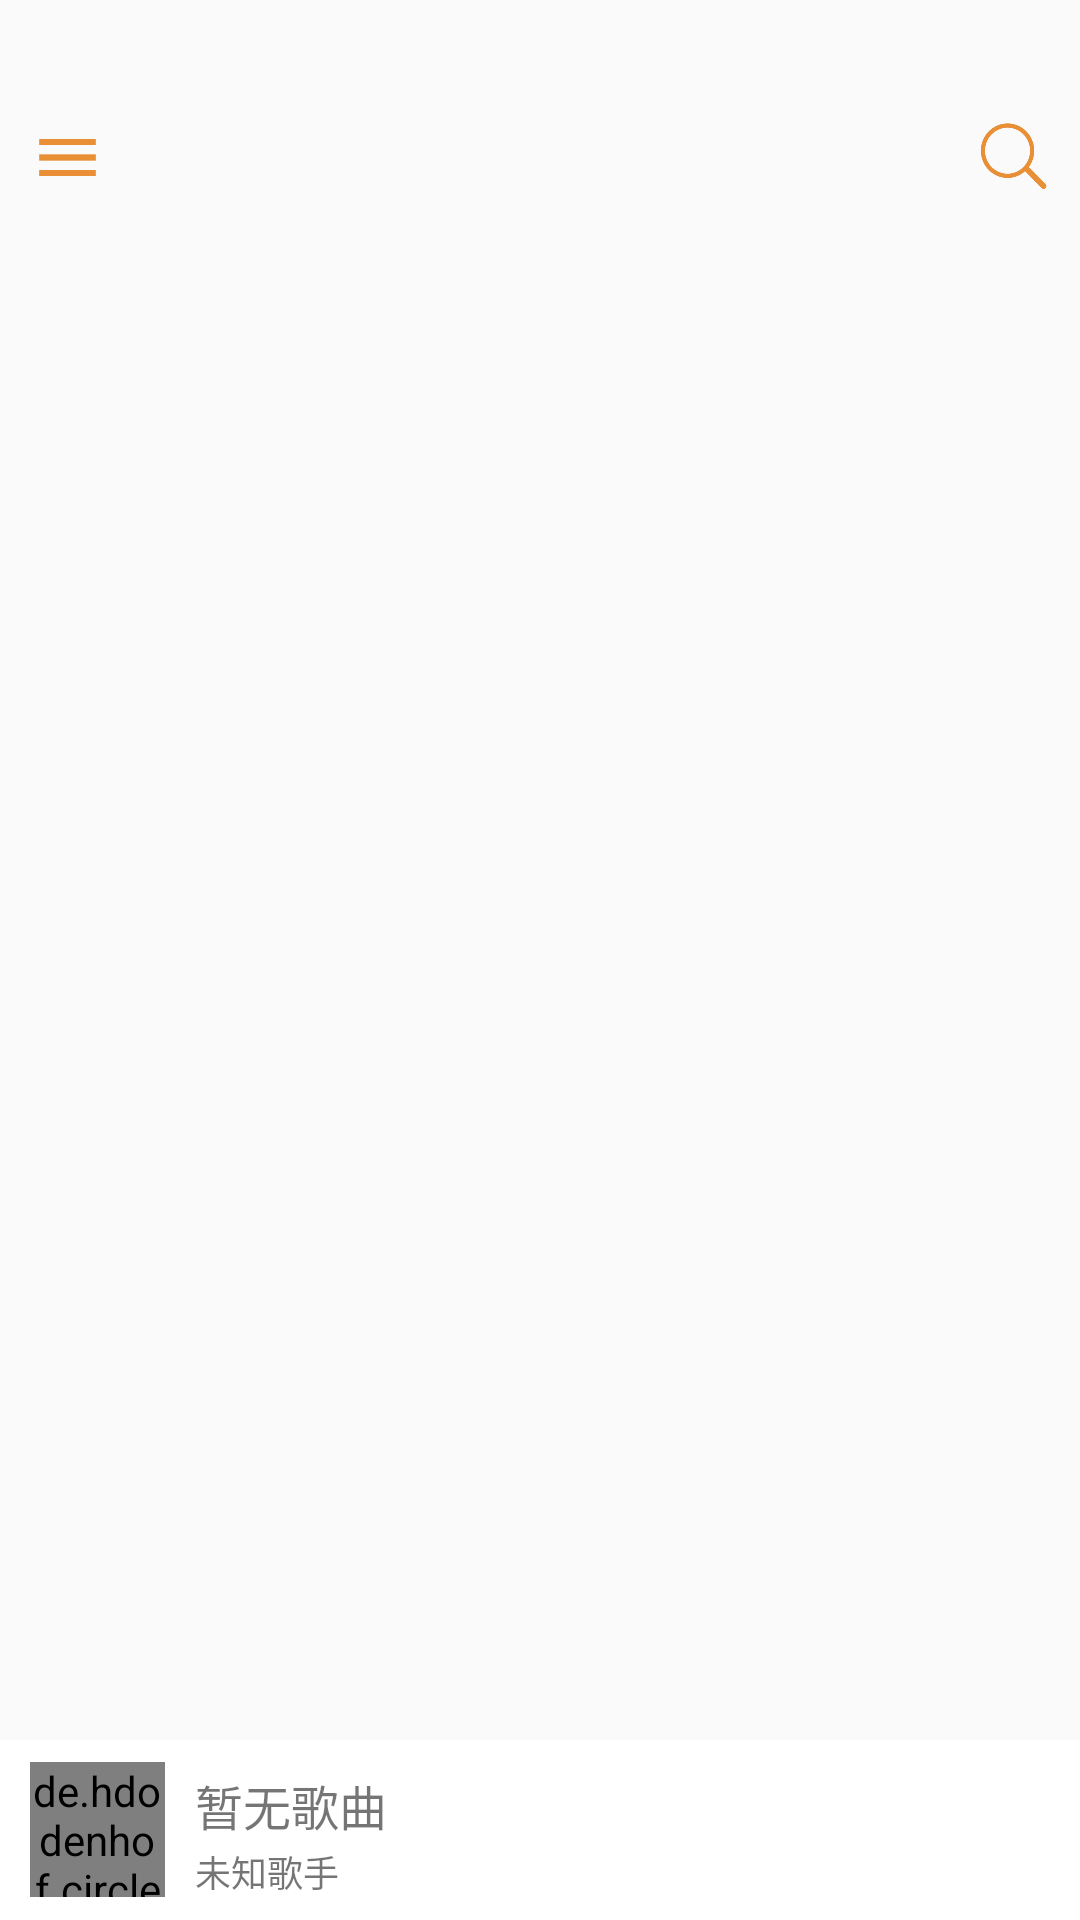

Icons on this 1080×1920 Android screen, each with the point to tap as point (x, y):
search: point (1014, 156)
